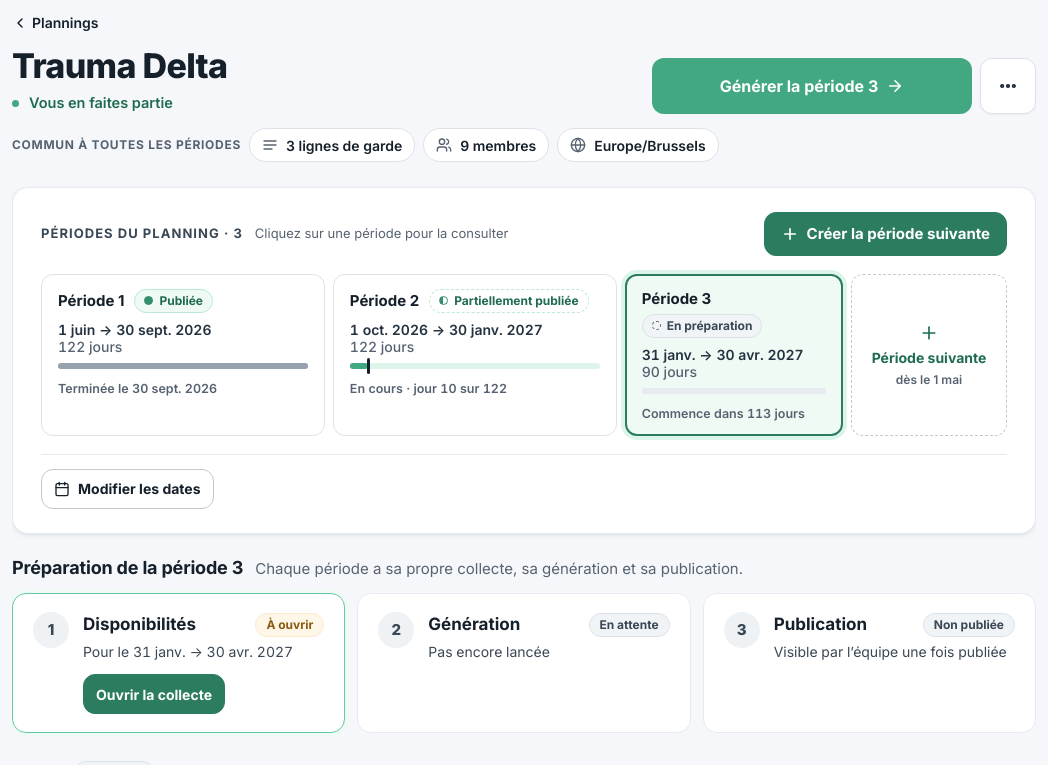
Scenario: PlanningDetailPage — periods (lot L6) › says what an incomplete line misses, and opens the collection of a period in preparation
Expected: the text "Période 3" is shown, [642,289,711,308]
Click the button "Ouvrir la collecte" at point(154, 694), box [83,674,225,714]
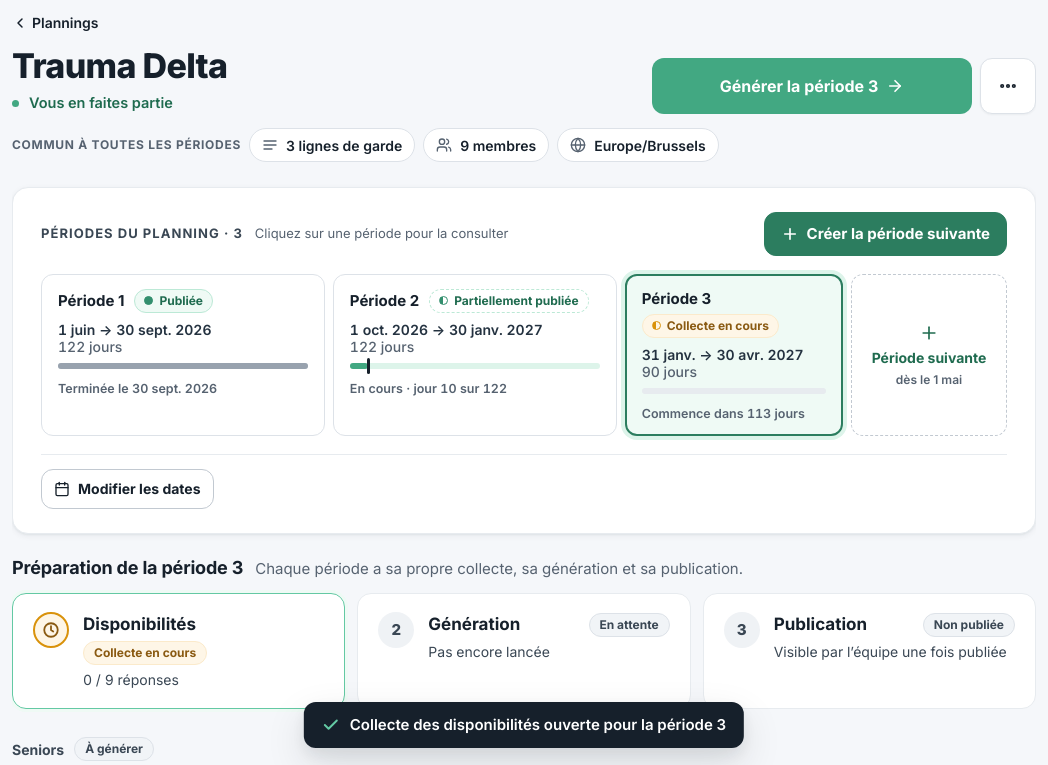
Expected: the text "0 / 9 réponses" is shown, [83,669,179,690]
